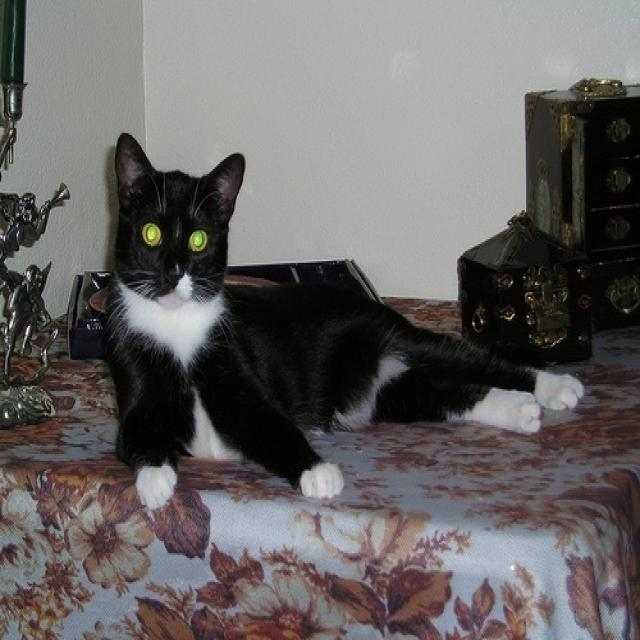cat: (101, 130, 584, 508)
